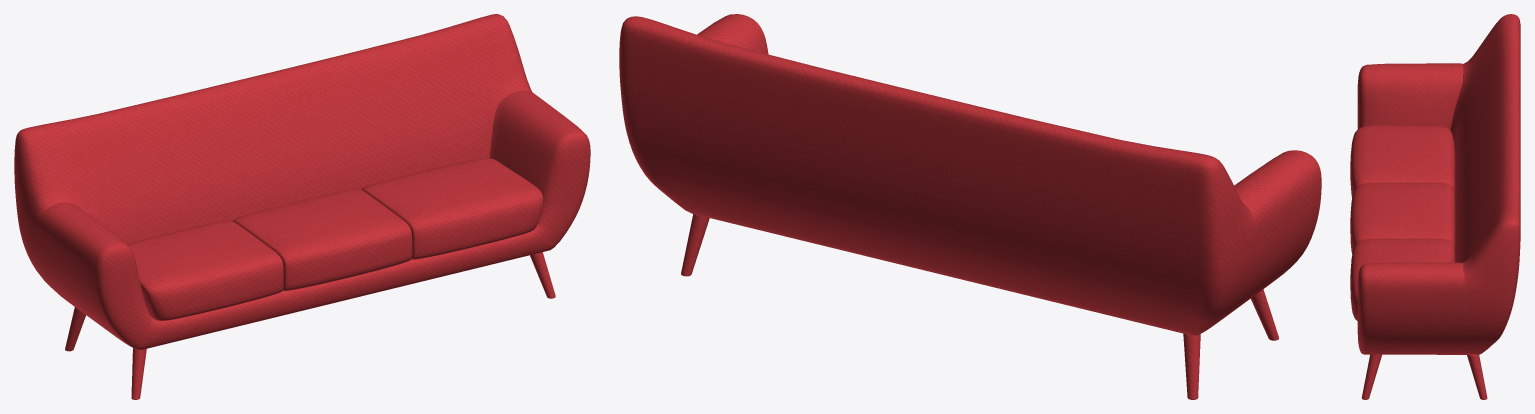
Rendered from red01.glb.
3 views of the same model, side by side, from view 1: azimuth 30°, elevation 25°; view 2: azimuth 150°, elevation 25°; view 3: azimuth 270°, elevation 25° (orthographic). The views are drawn at different scales.
Visible parts, largest first — view 1: sofa_mesh_n3d, pillow_003_mesh_n3d, pillow_001_mesh_n3d, pillow_002_mesh_n3d, base_003_mesh_n3d, base_001_mesh_n3d; view 2: sofa_mesh_n3d, base_004_mesh_n3d, base_002_mesh_n3d, base_003_mesh_n3d; view 3: sofa_mesh_n3d, pillow_002_mesh_n3d, pillow_001_mesh_n3d, pillow_003_mesh_n3d, base_002_mesh_n3d, base_001_mesh_n3d.
Boxes of the visible parts, x1,y1,x2,y2 form: sofa_mesh_n3d: (14, 14, 590, 349); pillow_003_mesh_n3d: (361, 158, 543, 259); pillow_001_mesh_n3d: (232, 189, 412, 290); pillow_002_mesh_n3d: (127, 220, 283, 320); base_003_mesh_n3d: (131, 348, 146, 399); base_001_mesh_n3d: (530, 252, 555, 298); sofa_mesh_n3d: (619, 14, 1321, 335); base_004_mesh_n3d: (1183, 333, 1200, 399); base_002_mesh_n3d: (681, 214, 709, 276); base_003_mesh_n3d: (1250, 289, 1278, 340); sofa_mesh_n3d: (1357, 14, 1520, 354); pillow_002_mesh_n3d: (1350, 125, 1455, 198); pillow_001_mesh_n3d: (1350, 183, 1455, 253); pillow_003_mesh_n3d: (1350, 239, 1455, 320); base_002_mesh_n3d: (1467, 354, 1487, 399); base_001_mesh_n3d: (1362, 354, 1381, 399).
Size of the model in its own units: 1.9 by 0.7874 by 0.635.
Materials: 1 (1 with a texture image).
